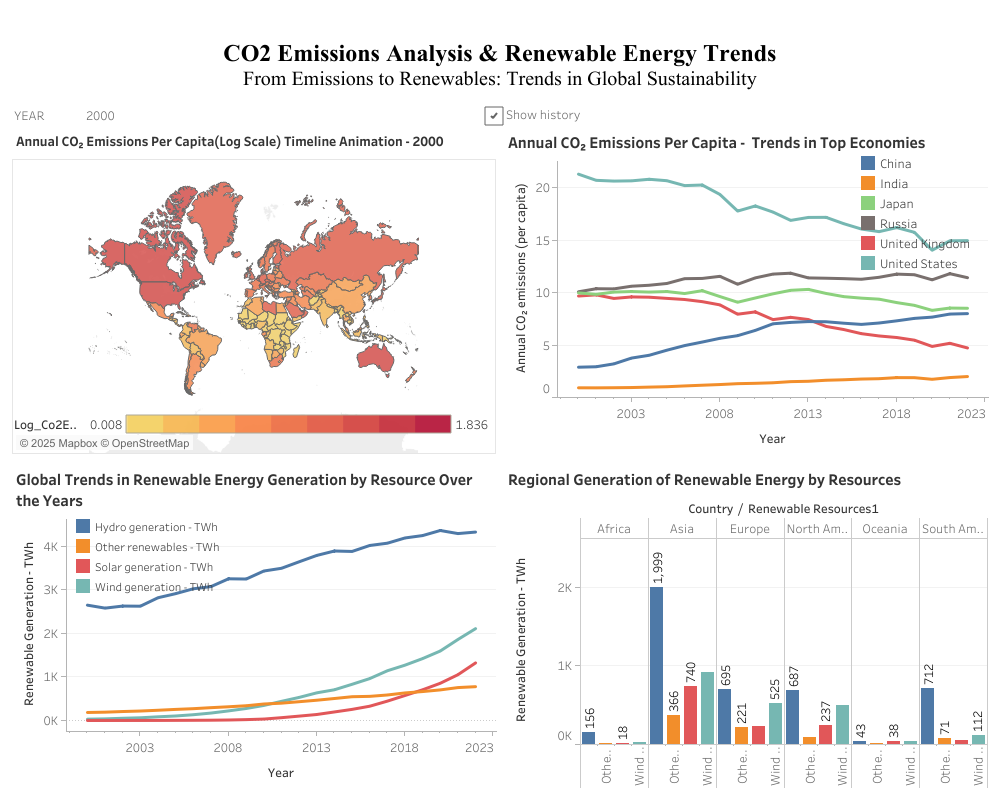

The page's visual inventory and layout, read from the dashboard file:
{"tool":"tableau","page":{"name":"CO2 Emissions Analysis & Renewable Energy Trends","canvas":[1000,800],"ordinal":0},"visuals":[{"type":"title","box":[8,8,984,113]},{"type":"currpage","title":"Annual CO₂ Emissions Per Capita(Log Scale) Timeline Animation","box":[14,101,566,27]},{"type":"worksheet","title":"Annual CO₂ Emissions Per Capita(Log Scale) Timeline Animation","mark":"Multipolygon","box":[8,121,492,336.9]},{"type":"worksheet","title":"Annual CO₂ Emissions Per Capita -  Trends in Top Economies","mark":"Automatic","rows":["Annual CO₂ emissions (per capita)"],"cols":["Year (co-emissions-per-capita.csv)"],"box":[500,121,492,337]},{"type":"legend","title":"Annual CO₂ Emissions Per Capita -  Trends in Top Economies","param":"[federated.1q6zv2z09dmxrx17ai2cp02gsiib].[none:Entity (co-emissions-per-capita.c","box":[858,153,141,138]},{"type":"legend","title":"Annual CO₂ Emissions Per Capita(Log Scale) Timeline Animation","param":"[federated.1q6zv2z09dmxrx17ai2cp02gsiib].[sum:Calculation_919297288810799104:qk]","box":[14,411,479,40]},{"type":"worksheet","title":"Global Trends in Renewable Energy Generation by Resource Over the Years","mark":"Automatic","rows":["Renewable Generation - TWh"],"cols":["Year (renewable-electricity-per-capita.csv)"],"box":[8,457.9,492,334.1]},{"type":"worksheet","title":"Regional Generation of Renewable Energy by Resources","mark":"Automatic","rows":["Renewable Generation - TWh"],"cols":["Entity","Renewable Resources"],"box":[500,458,492,334]},{"type":"legend","title":"Global Trends in Renewable Energy Generation by Resource Over the Years","param":"[federated.1q6zv2z09dmxrx17ai2cp02gsiib].[none:Renewable Resources:nk]","box":[73,516,174,80]}]}

Visuals, with their boxes in screenshot pixels (x1, y1, x2, y2), scaled from the page's 1000x800 canvas onto the 999x799 screenshot:
title: {"x1": 8, "y1": 8, "x2": 991, "y2": 121}
"Annual CO₂ Emissions Per Capita(Log Scale) Timeline Animation" currpage: {"x1": 14, "y1": 101, "x2": 579, "y2": 128}
"Annual CO₂ Emissions Per Capita(Log Scale) Timeline Animation" worksheet (Multipolygon marks): {"x1": 8, "y1": 121, "x2": 500, "y2": 457}
"Annual CO₂ Emissions Per Capita -  Trends in Top Economies" worksheet: {"x1": 500, "y1": 121, "x2": 991, "y2": 457}
"Annual CO₂ Emissions Per Capita -  Trends in Top Economies" legend: {"x1": 857, "y1": 153, "x2": 998, "y2": 291}
"Annual CO₂ Emissions Per Capita(Log Scale) Timeline Animation" legend: {"x1": 14, "y1": 410, "x2": 493, "y2": 450}
"Global Trends in Renewable Energy Generation by Resource Over the Years" worksheet: {"x1": 8, "y1": 457, "x2": 500, "y2": 791}
"Regional Generation of Renewable Energy by Resources" worksheet: {"x1": 500, "y1": 457, "x2": 991, "y2": 791}
"Global Trends in Renewable Energy Generation by Resource Over the Years" legend: {"x1": 73, "y1": 515, "x2": 247, "y2": 595}
